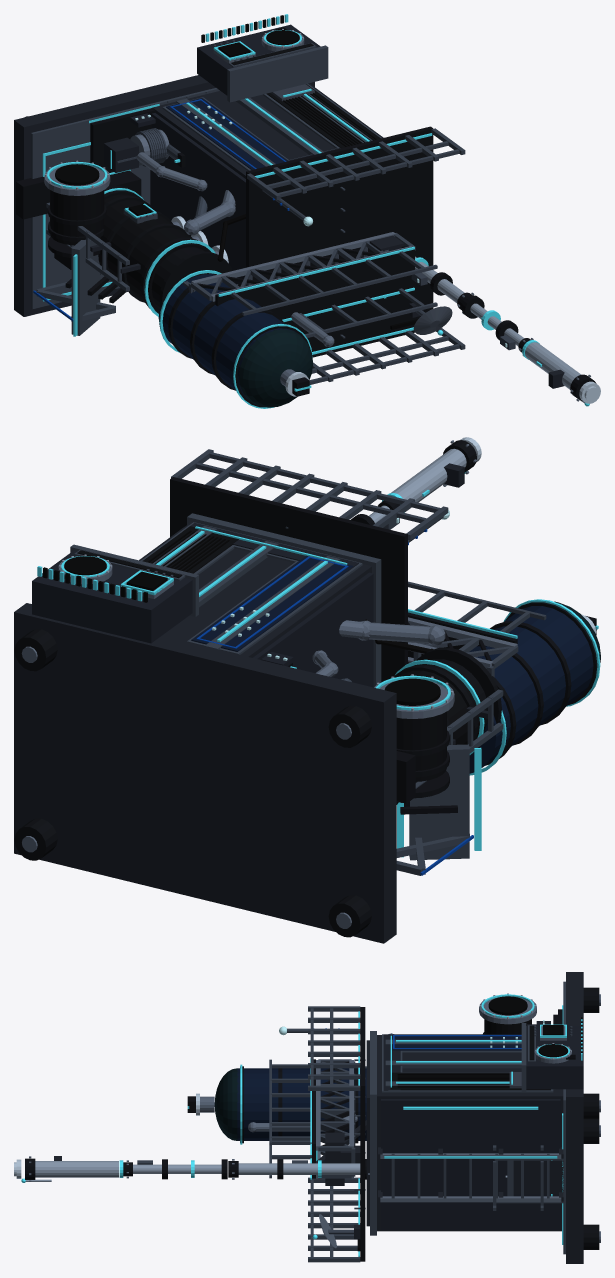
The model's file is mast_rig.obj.
3 views of the same model, one above another, from view 1: azimuth 30°, elevation 25°; view 2: azimuth 150°, elevation 25°; view 3: azimuth 270°, elevation 25° (orthographic). The views are drawn at different scales.
Parts seen in each view (by area): view 1: mcw_plate, mcb_side1, mbl_plate, mdm_body, mbl_top, mtr_walk, mdm_dome, mcb_body, mvs_body, mut_cap, mcb_p2_pl, mrk_tank (+24 smaller); view 2: mbl_plate, mcw_plate, mdm_body, mut_body, mcb_side1, mcb_body, mrk_ramp, mcb_p2_pl, mcb_cap, mrk_tank, mms_s3, mvs_rib4 (+25 smaller); view 3: mcb_side-1, mdm_body, mcb_body, mbl_plate, mut_body, mcw_plate, mms_base, mcb_cap, mms_s3, mcb_p2_pl, mcb_p1_pl, mms_s1 (+22 smaller).
Boxes of the visible parts, left/top/right/bottom form: mcw_plate: left=246, top=126, right=433, bottom=357; mcb_side1: left=150, top=113, right=245, bottom=284; mbl_plate: left=14, top=75, right=314, bottom=316; mdm_body: left=158, top=274, right=303, bottom=404; mbl_top: left=31, top=88, right=219, bottom=309; mtr_walk: left=215, top=246, right=414, bottom=319; mdm_dome: left=239, top=329, right=312, bottom=407; mcb_body: left=152, top=83, right=383, bottom=178; mvs_body: left=98, top=194, right=209, bottom=312; mut_cap: left=227, top=45, right=328, bottom=102; mcb_p2_pl: left=166, top=98, right=288, bottom=169; mrk_tank: left=50, top=190, right=104, bottom=245; mbl_plate: left=14, top=603, right=396, bottom=943; mcw_plate: left=170, top=477, right=407, bottom=682; mdm_body: left=469, top=606, right=593, bottom=773; mut_body: left=32, top=551, right=192, bottom=643; mcb_side1: left=253, top=572, right=373, bottom=687; mcb_body: left=139, top=522, right=371, bottom=657; mrk_ramp: left=409, top=744, right=469, bottom=860; mcb_p2_pl: left=191, top=555, right=353, bottom=651; mcb_cap: left=187, top=513, right=381, bottom=687; mrk_tank: left=396, top=711, right=446, bottom=781; mms_s3: left=391, top=448, right=466, bottom=511; mvs_rib4: left=414, top=647, right=501, bottom=723; mcb_side-1: left=381, top=1099, right=560, bottom=1229; mdm_body: left=237, top=1068, right=366, bottom=1140; mcb_body: left=377, top=1035, right=563, bottom=1231; mbl_plate: left=566, top=972, right=583, bottom=1263; mut_body: left=526, top=1026, right=583, bottom=1089; mcw_plate: left=360, top=1007, right=365, bottom=1261; mms_base: left=513, top=1160, right=563, bottom=1194; mcb_cap: left=370, top=1031, right=376, bottom=1235; mms_s3: left=35, top=1161, right=118, bottom=1177; mcb_p2_pl: left=390, top=1034, right=521, bottom=1050; mcb_p1_pl: left=390, top=1072, right=550, bottom=1090; mms_s1: left=238, top=1163, right=360, bottom=1174.
Bounding box in the file's own units: 3.88 × 2.8 × 7.39.
